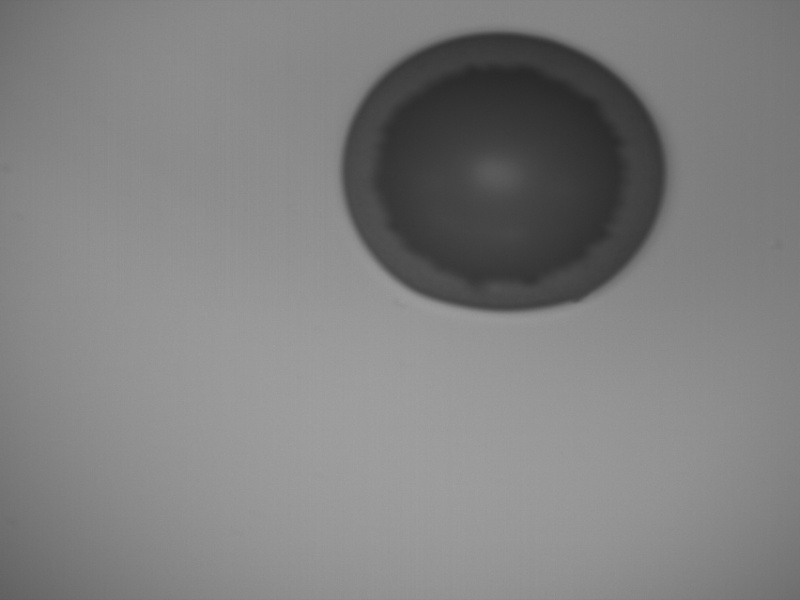bead: (342, 32, 666, 313)
